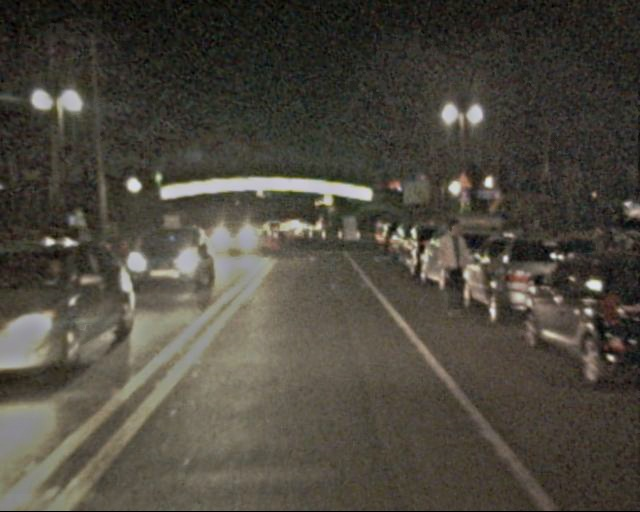person: (431, 219, 471, 316)
